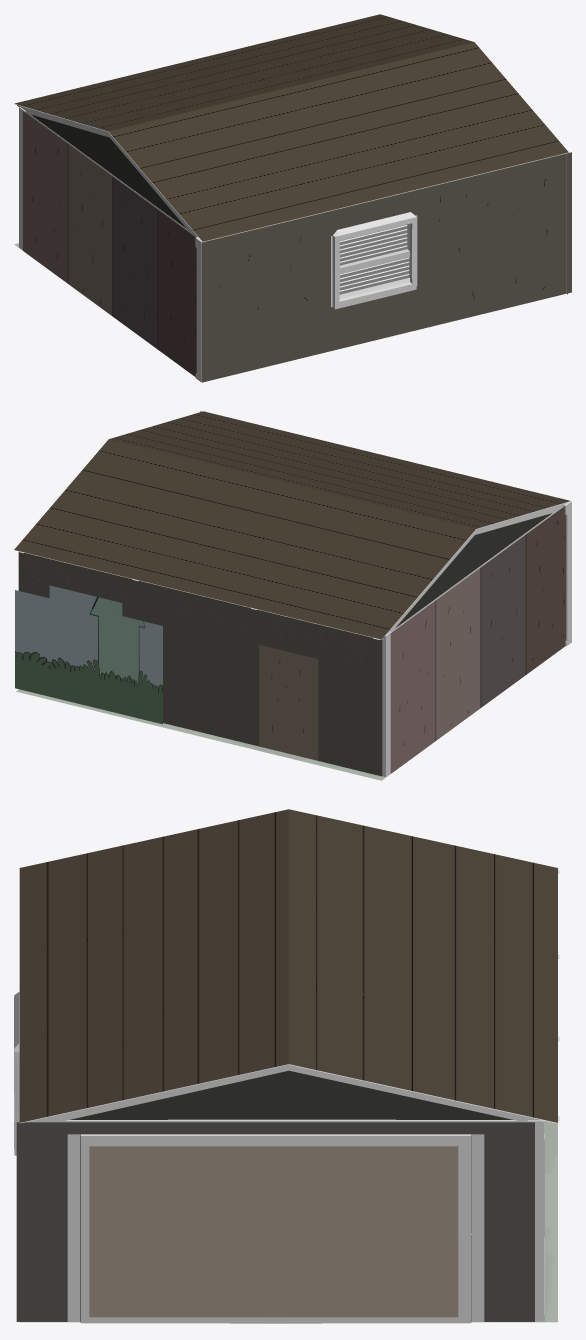
File: Rick and Morty Garage.fbx
The picture shows the model from 3 angles, top to bottom: view 1: azimuth 30°, elevation 25°; view 2: azimuth 150°, elevation 25°; view 3: azimuth 270°, elevation 25°; orthographic projection. The views are drawn at different scales.
Visible parts, largest first — view 1: Ceiling, Wall, Wood.001, Wood; view 2: Ceiling, Wall, Background, Floor, Wood, Wood.001; view 3: Ceiling, Wall, Wood.001, Floor, Wood.
Boxes of the visible parts, x1,y1,x2,y2 form: Ceiling: [14, 14, 568, 241]; Wall: [23, 111, 571, 382]; Wood.001: [195, 153, 563, 382]; Wood: [19, 107, 25, 250]; Ceiling: [14, 411, 569, 639]; Wall: [18, 411, 565, 776]; Background: [15, 585, 162, 724]; Floor: [16, 689, 390, 780]; Wood: [382, 631, 391, 776]; Wood.001: [563, 501, 571, 646]; Ceiling: [19, 809, 559, 1123]; Wall: [16, 1122, 534, 1323]; Wood.001: [14, 867, 484, 1321]; Floor: [20, 1121, 557, 1322]; Wood: [527, 1120, 544, 1321].
Bounding box in the file's own units: 941 × 443 × 860.
